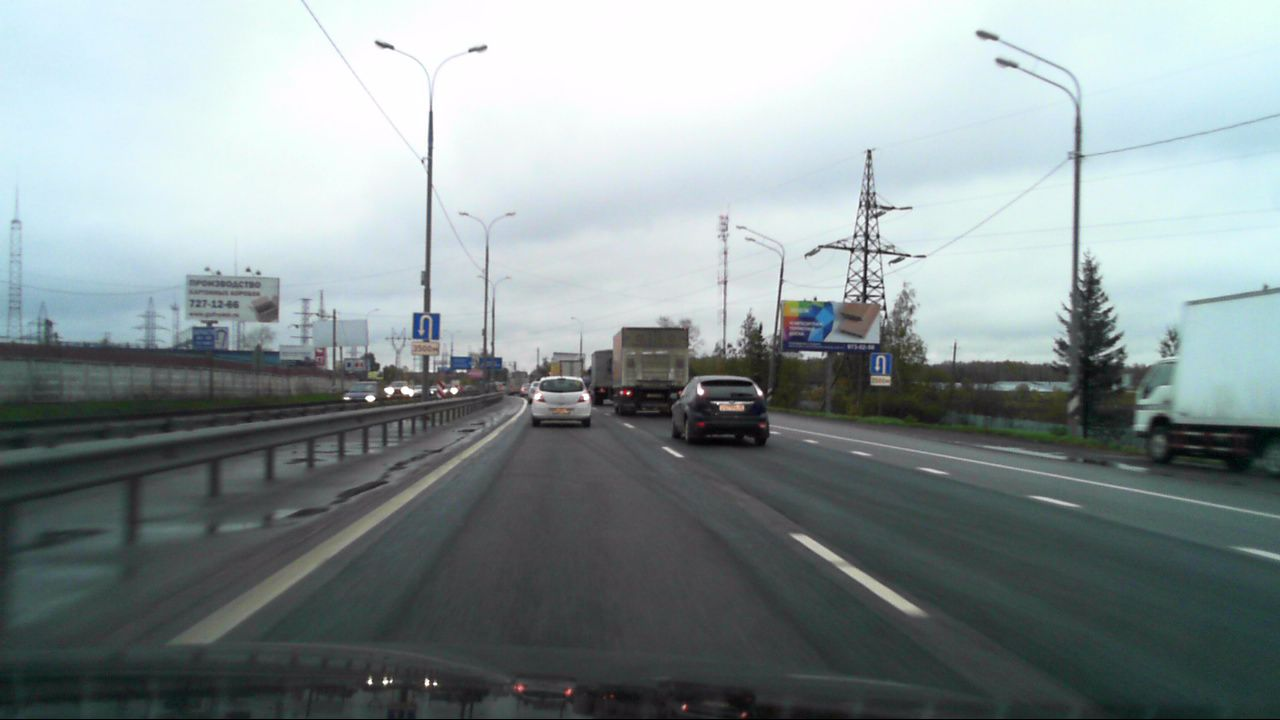U-turn: (413, 313, 439, 340), (871, 353, 891, 376)
